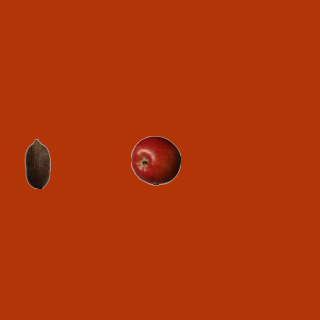Apple Braeburn: (130, 135, 180, 185)
Nut Pecan: (12, 138, 62, 188)
